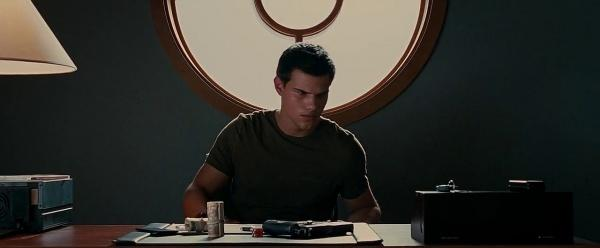Gun: (262, 219, 355, 240)
